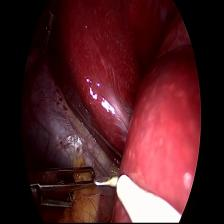Grasper: (28, 163, 96, 217), (39, 11, 55, 66)
Hook: (94, 175, 181, 223)
